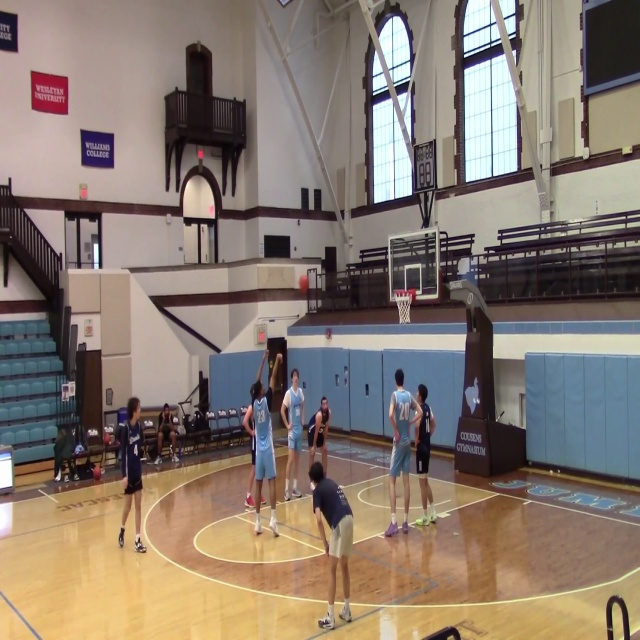Basketball: (299, 275, 308, 294), (93, 466, 101, 480), (103, 433, 113, 444)
